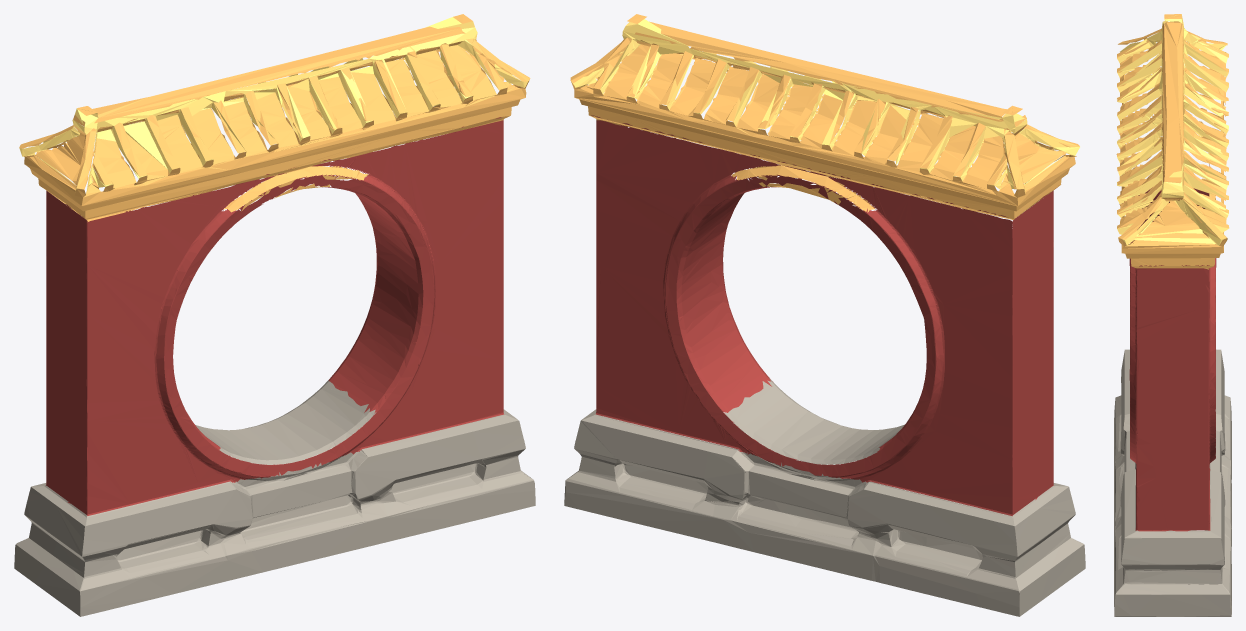
The model's file is meshy-moon-gate.glb.
The picture shows the model from 3 angles, left to right: view 1: azimuth 30°, elevation 25°; view 2: azimuth 150°, elevation 25°; view 3: azimuth 270°, elevation 25°; orthographic projection. The views are drawn at different scales.
Visible parts, largest first — view 1: mesh_node; view 2: mesh_node; view 3: mesh_node.
Part boxes in pixels (box(x1,y1,x2,y2)): mesh_node: box(14, 14, 535, 616); mesh_node: box(564, 14, 1085, 616); mesh_node: box(1114, 14, 1231, 616).
Bounding box in the file's own units: 1.9 × 1.88 × 0.4783.
